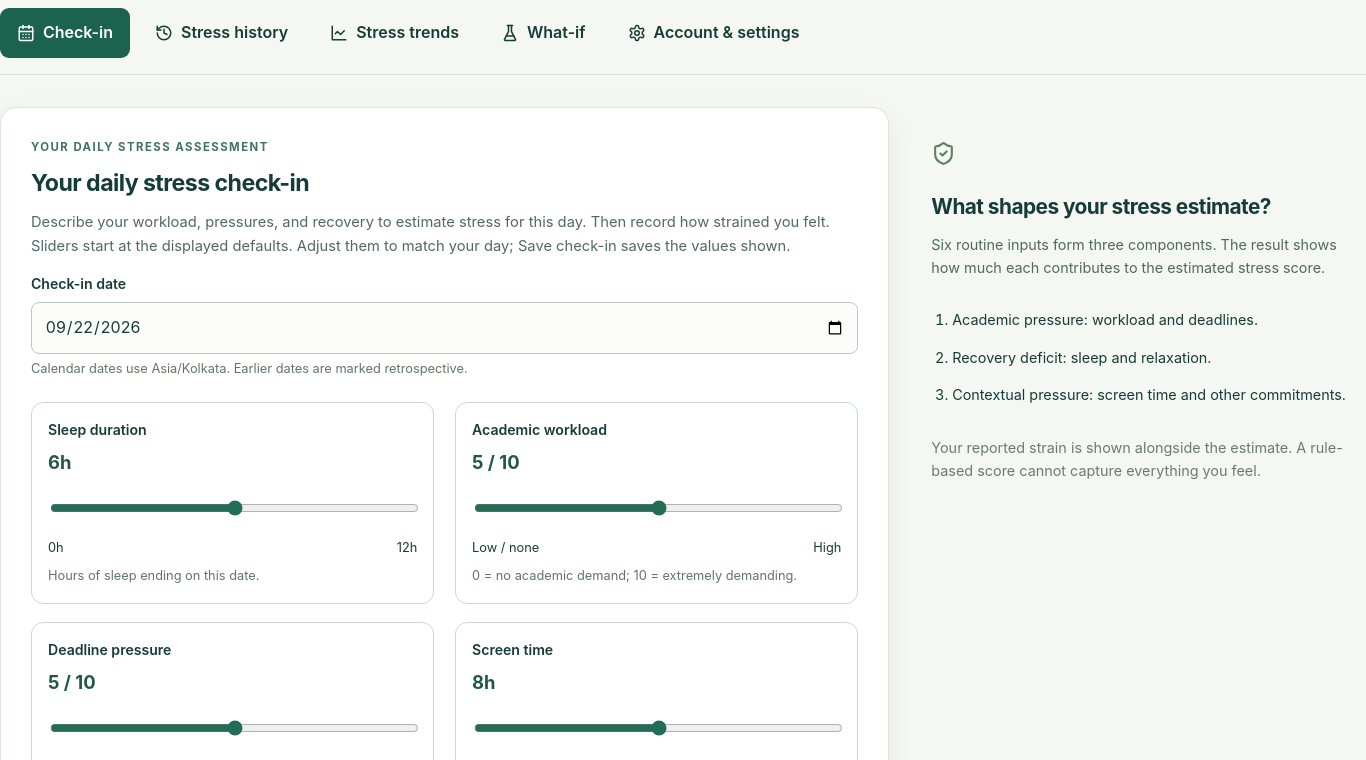
Test: edits the display name explicitly and keeps Google email read-only
Step 1. Click the button "Account & settings" → (713, 33), box [610,8,816,58]
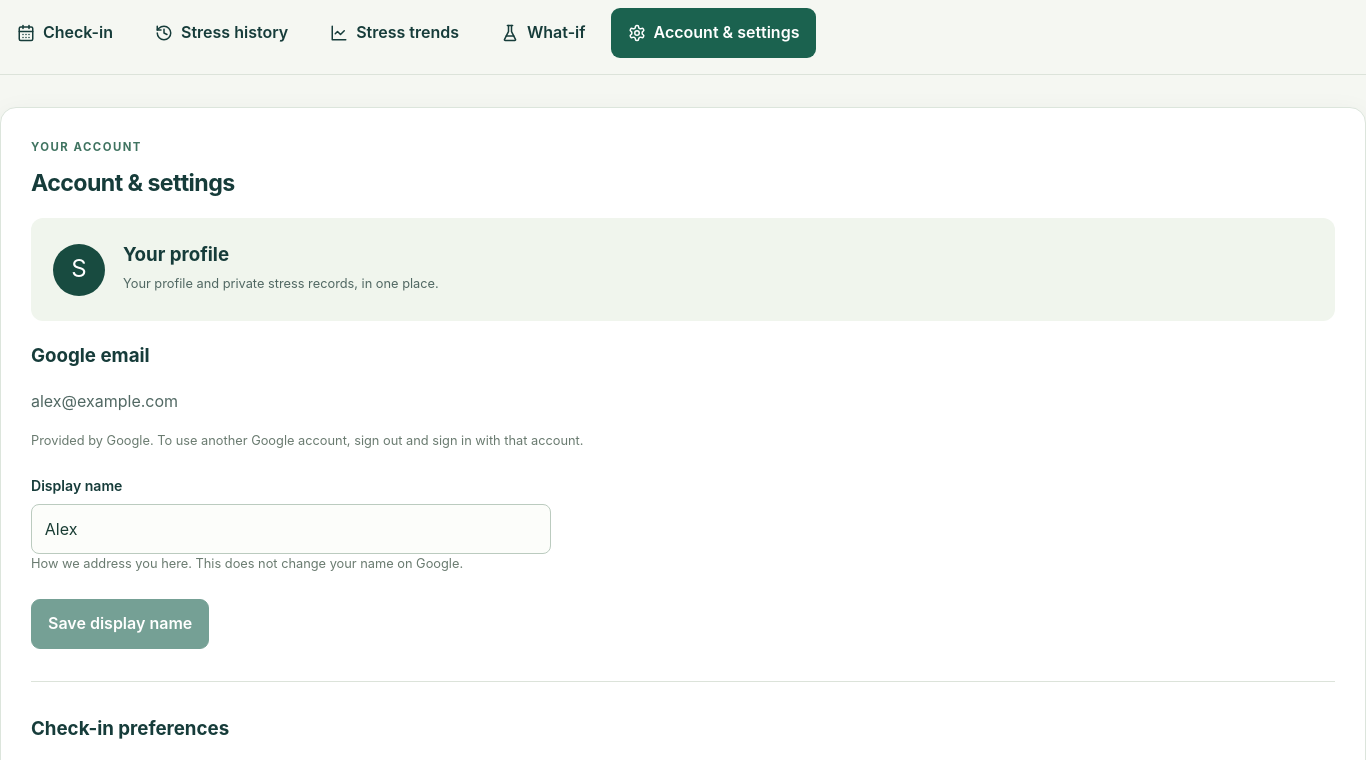
expect the field labelled "Display name" holds "Alex": met
expect the text "alex@example.com" is shown: met, box [31,391,178,411]
Step 2. Replace the text in the field labelled "Display name" with "Sam" → (291, 529), box [31,504,551,554]
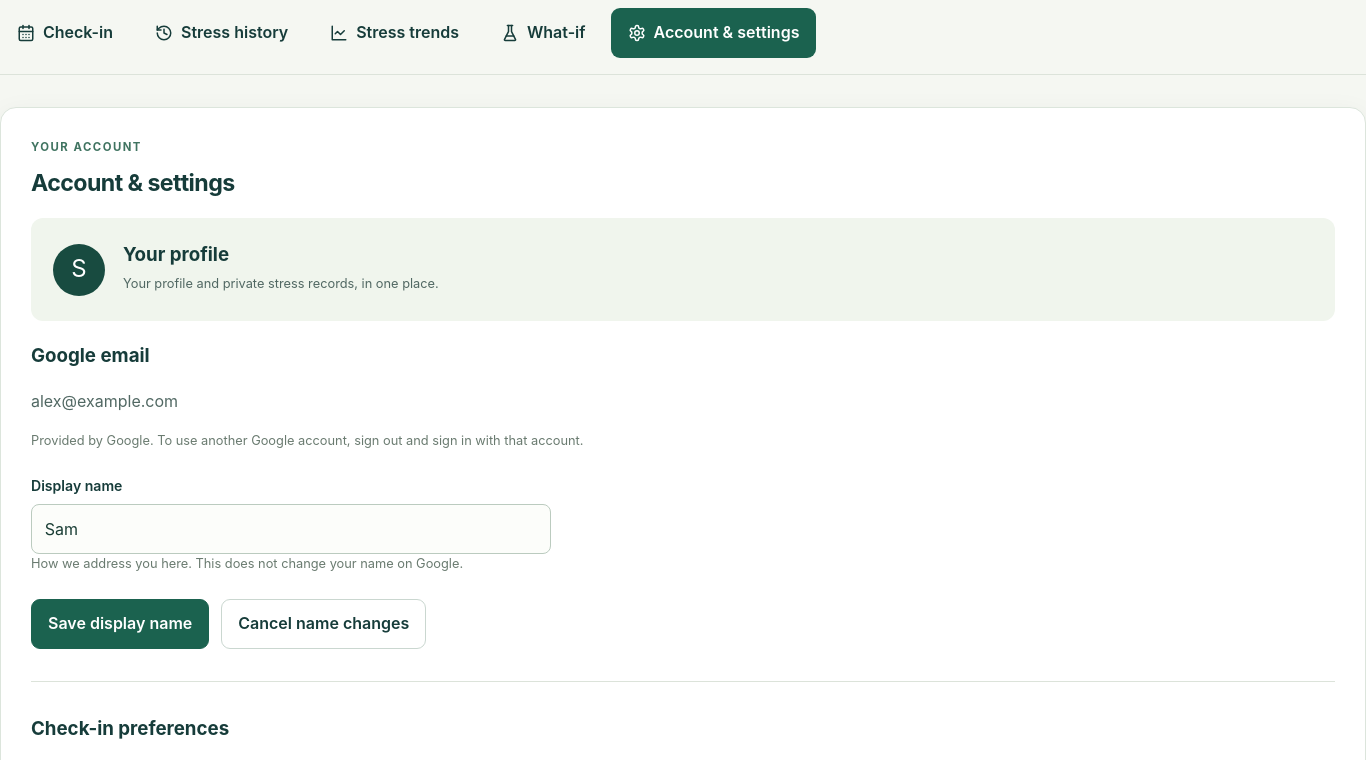
Step 3. Click the button "Save display name" → (120, 624), box [31,599,209,649]
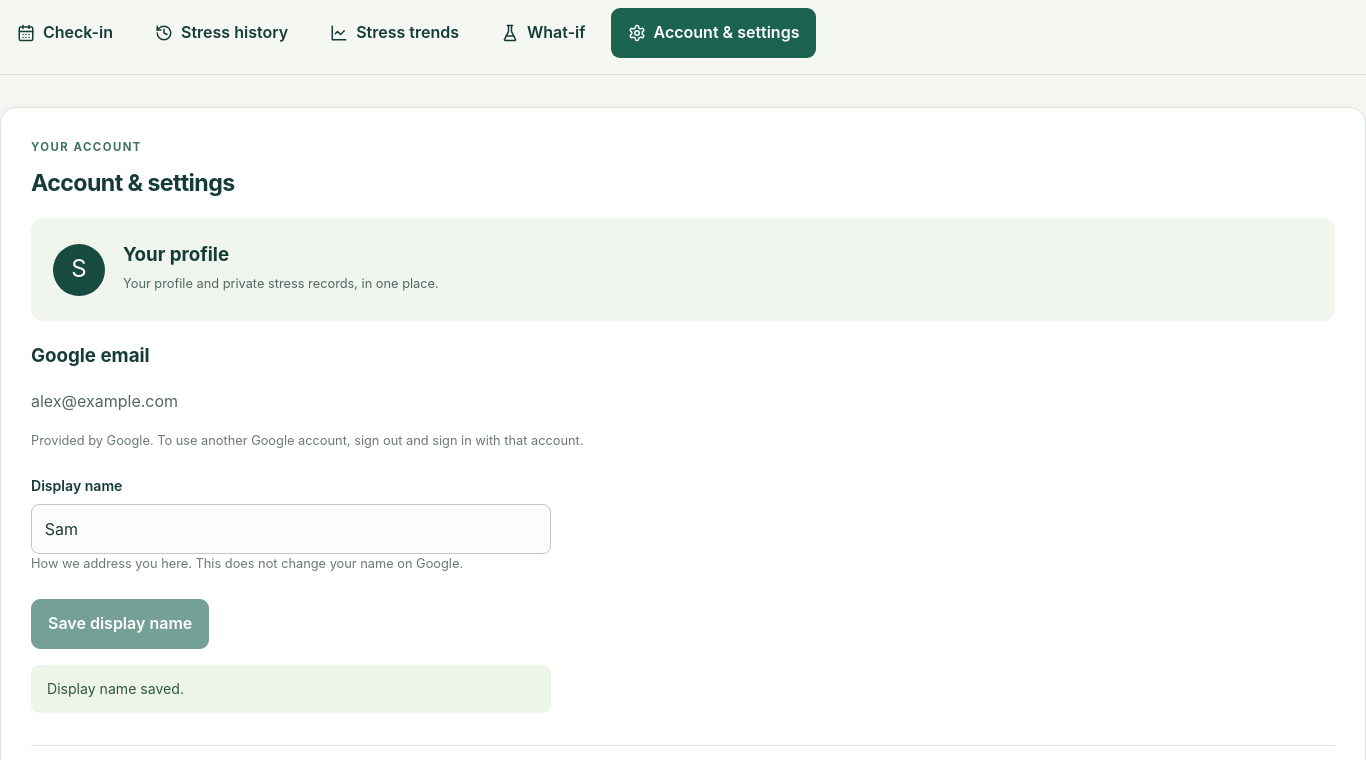
expect the text "Display name saved." is shown: met, box [31,665,551,713]
